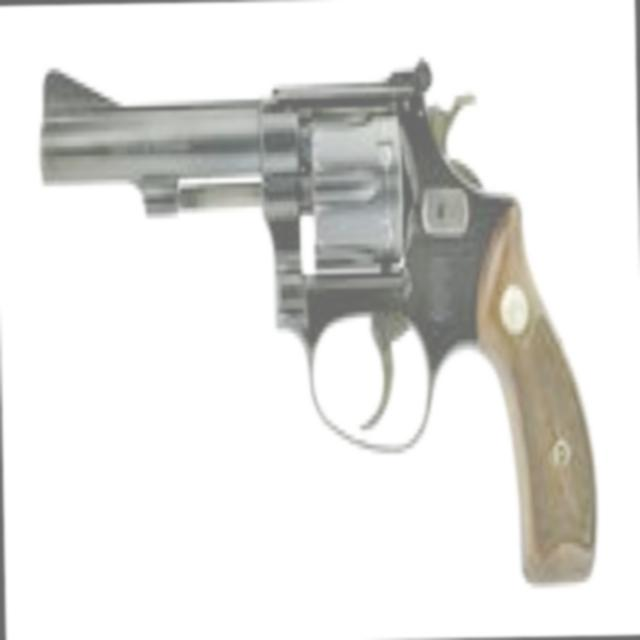revolver: (22, 25, 621, 629)
